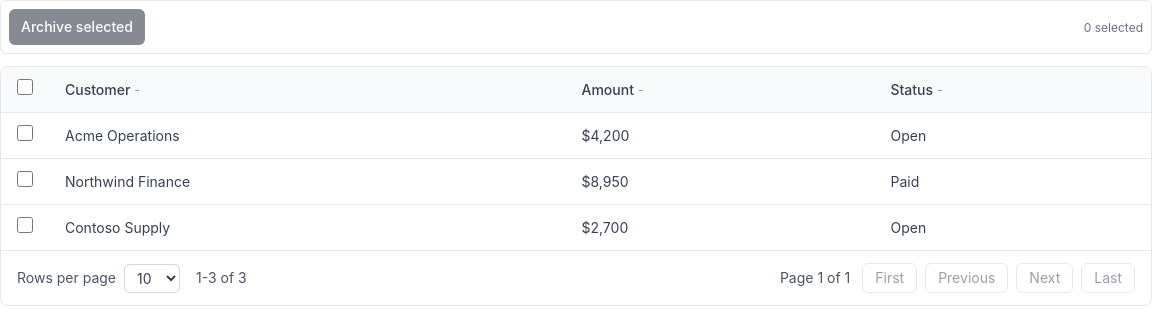
Test case: Toast › shows notifications from the DataGrid bulk action integration example
Expected: the button "Archive selected" is disabled, x1=9 y1=9 x2=145 y2=45
Click the checkbox named "Select row 1" at [25, 133], box x1=17 y1=125 x2=33 y2=141
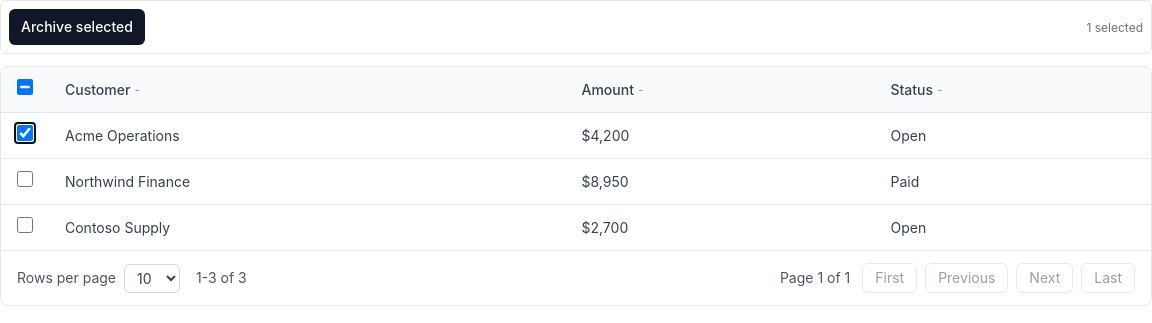
Click the button "Archive selected" at [77, 27], box x1=9 y1=9 x2=145 y2=45
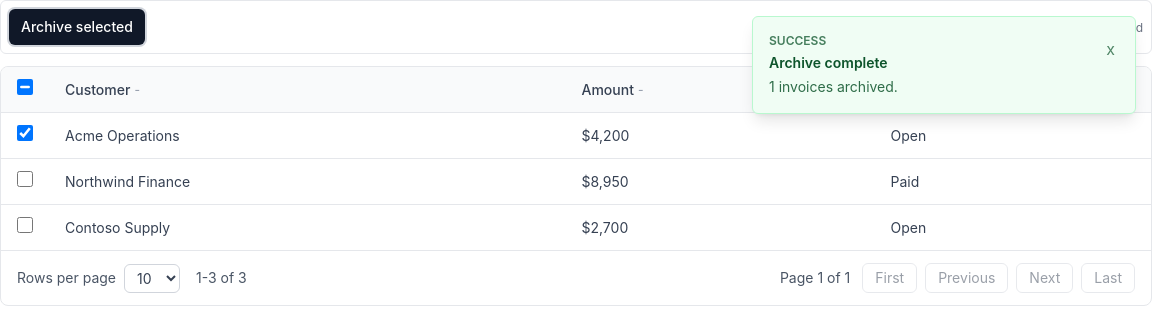
Result: the message "Archive complete" shows "1 invoices archived." at x1=769 y1=78 x2=898 y2=95
